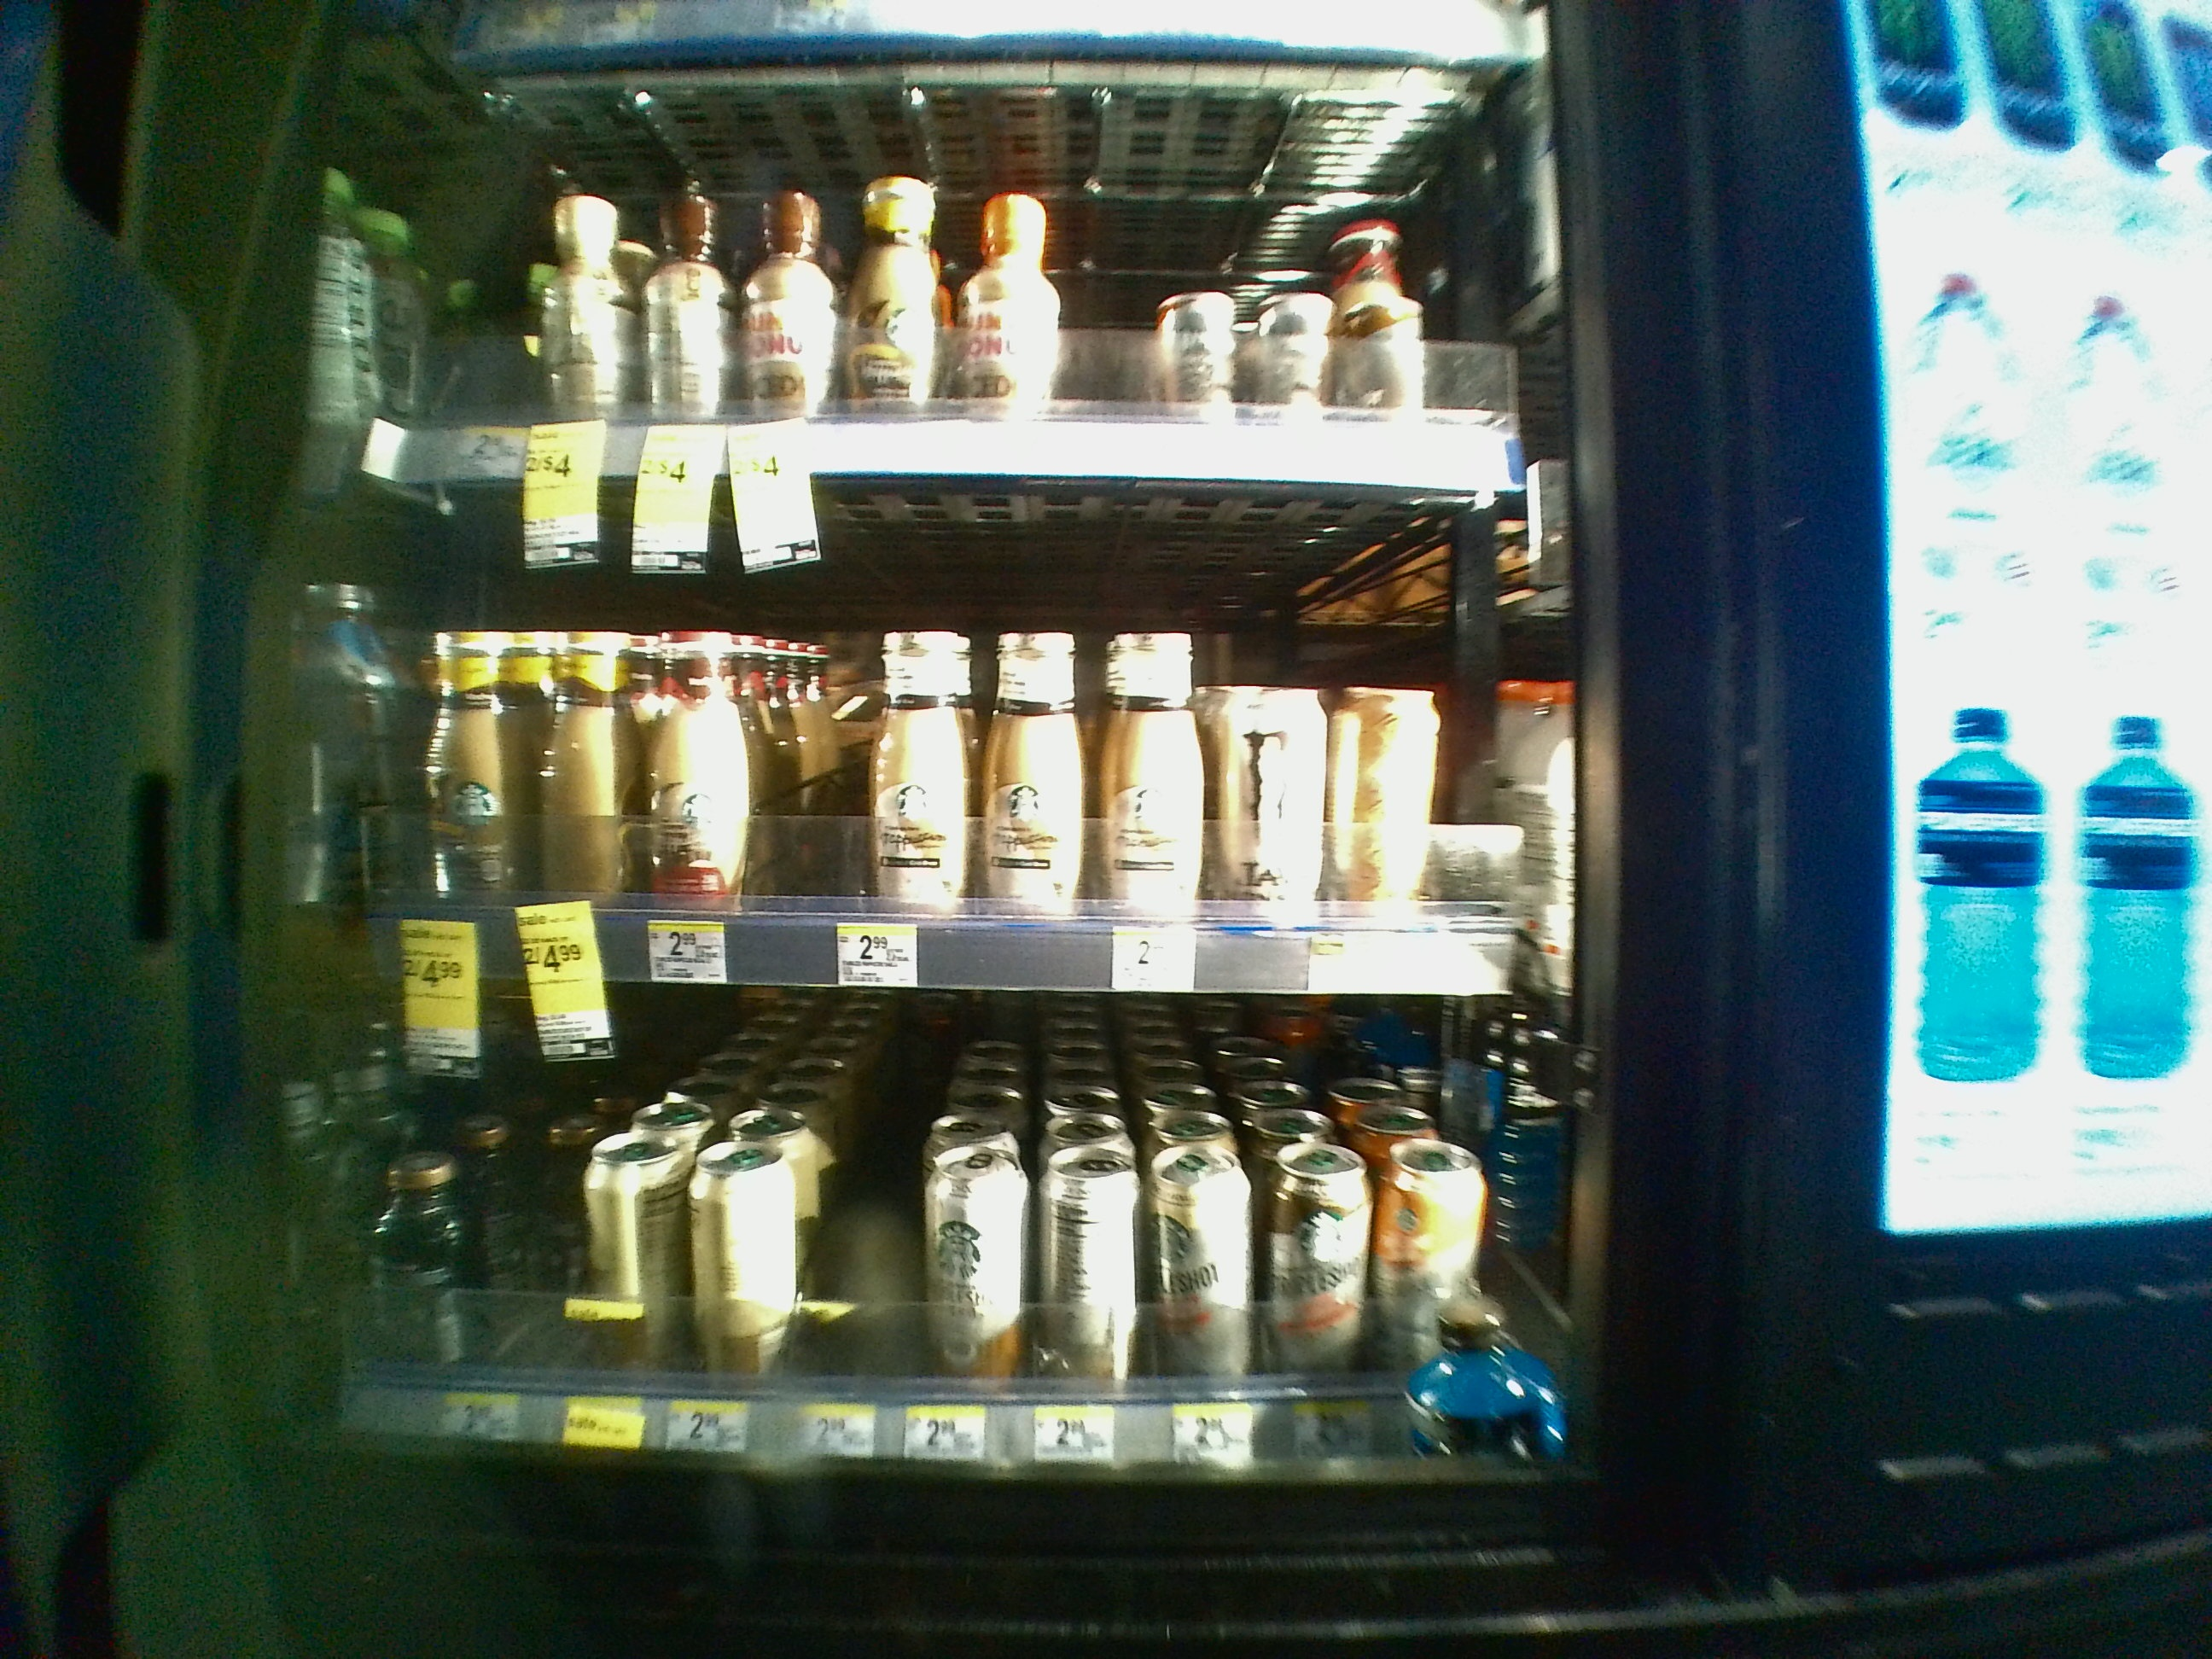shelf: (272, 477, 1594, 997), (246, 981, 1604, 1480)
